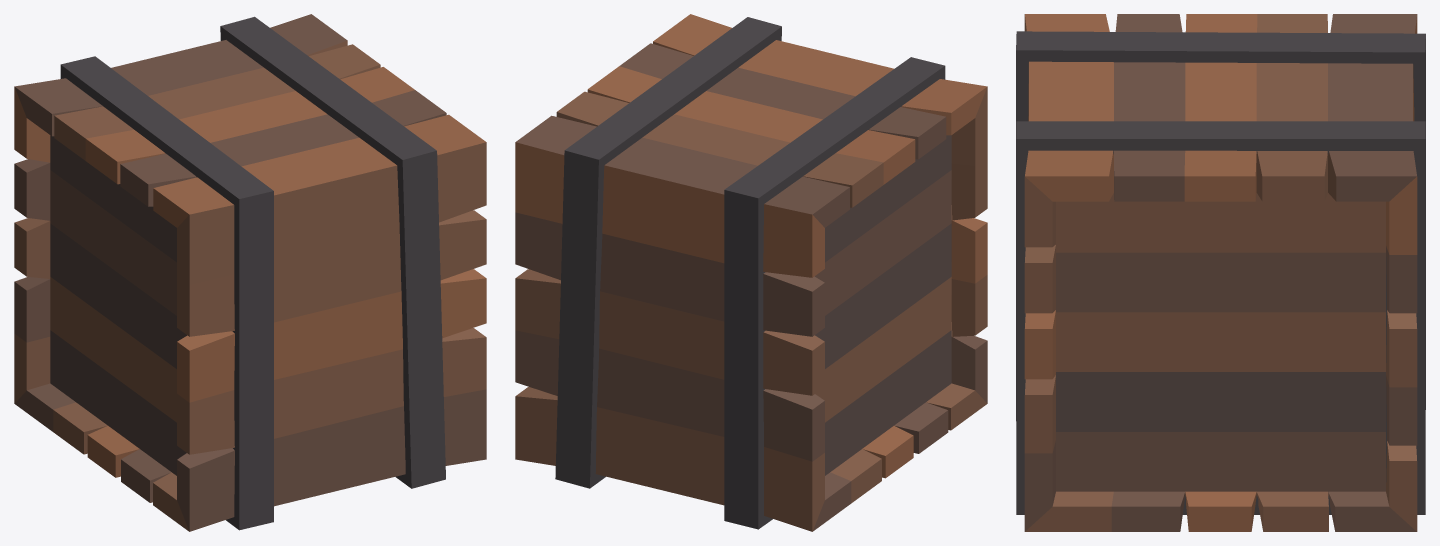
File: crate_modguide.fbx
The picture shows the model from 3 angles, left to right: view 1: azimuth 30°, elevation 25°; view 2: azimuth 150°, elevation 25°; view 3: azimuth 270°, elevation 25°; orthographic projection. The views are drawn at different scales.
Parts seen in each view (by area): view 1: crate_modguide; view 2: crate_modguide; view 3: crate_modguide.
Boxes of the visible parts, <box> form: crate_modguide: <box>14,14,486,531</box>; crate_modguide: <box>515,14,987,531</box>; crate_modguide: <box>1016,14,1425,531</box>.
Size of the model in its own units: 0.2942 by 0.3144 by 0.3139.
